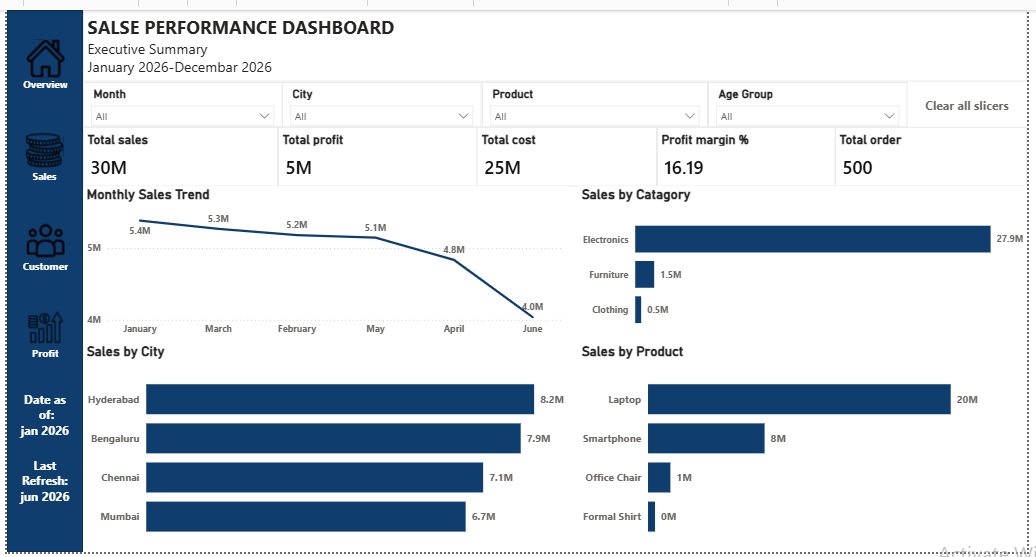

This screenshot's page, from the dashboard's own definition file:
{"tool":"powerbi","page":{"name":"Executive Summary","canvas":[1355,720],"ordinal":0},"visuals":[{"type":"shape","box":[0,0,101,720],"z":0,"group":"g1"},{"type":"cardVisual","title":"Total sales","fields":{"Data":["Sum(Sheet.Sales)"]},"box":[101,155.1,259,79],"z":0},{"type":"actionButton","box":[0,143.4,99.5,102.4],"z":1000,"group":"g1"},{"type":"cardVisual","title":"Total profit","fields":{"Data":["Sum(Sheet.Profit)"]},"box":[360,155.1,264.9,79],"z":1000},{"type":"cardVisual","title":"Total cost","fields":{"Data":["Sum(Sheet.Cost)"]},"box":[624.9,155.1,238.5,79],"z":2000},{"type":"actionButton","box":[1.5,379,99.5,103.9],"z":2000,"group":"g1"},{"type":"cardVisual","title":"Profit margin %","fields":{"Data":["SalesData.Profit Margin%"]},"box":[863.4,155.1,237.1,79],"z":3000},{"type":"actionButton","box":[1.5,267.8,99.5,93.7],"z":3000,"group":"g1"},{"type":"actionButton","box":[1.5,19,99.5,108.3],"z":4000,"group":"g1"},{"type":"cardVisual","title":"Total order","fields":{"Data":["SalesData.Total Order"]},"box":[1100.5,155.1,254.6,79],"z":4000},{"type":"textbox","box":[101,0,1254.1,95.1],"z":5000},{"type":"textbox","box":[1.5,500.5,98,87.8],"z":5000,"group":"g1"},{"type":"slicer","title":"Month 2025","fields":{"Values":["SalesData.Month"]},"box":[101,95.1,264.9,60],"z":6000},{"type":"textbox","box":[1.5,588.3,98,87.8],"z":6000,"group":"g1"},{"type":"slicer","title":"City","fields":{"Values":["SalesData.City"]},"box":[365.9,95.1,264.9,60],"z":7000},{"type":"slicer","title":"Product","fields":{"Values":["SalesData.Product"]},"box":[630.7,95.1,300,60],"z":8000},{"type":"slicer","title":"Age Group","fields":{"Values":["SalesData.Age Group"]},"box":[930.7,95.1,264.9,60],"z":9000},{"type":"lineChart","title":"Monthly Sales Trend","fields":{"Category":["SalesData.Month"],"Y":["Sum(SalesData.Sales)"]},"box":[101,234.1,643.9,207.8],"z":10000},{"type":"clusteredBarChart","title":"Sales by Catagory","fields":{"Category":["SalesData.Category"],"Y":["Sum(SalesData.Sales)"]},"box":[758,234.1,597.1,207.8],"z":11000},{"type":"clusteredBarChart","title":"Sales by City","fields":{"Category":["SalesData.City"],"Y":["Sum(SalesData.Sales)"]},"box":[101,442,657.1,278],"z":12000},{"type":"clusteredBarChart","title":"Sales by Product","fields":{"Category":["SalesData.Product"],"Y":["Sum(SalesData.Sales)"]},"box":[758,442,597.1,278],"z":13000},{"type":"actionButton","box":[1195.6,95.1,159.5,60],"z":14000},{"type":"group","id":"g1","title":"Group 2","box":[0,0,101,720],"z":20002}]}

Visuals, with their boxes on the page's 1355x720 design canvas (x1, y1, x2, y2). These are canvas units, not pixel positions in the 1036x557 screenshot, which may show the page scaled, cropped or inside an application window:
shape: BBox(0, 0, 101, 720)
"Total sales" cardVisual: BBox(101, 155, 360, 234)
actionButton: BBox(0, 143, 100, 246)
"Total profit" cardVisual: BBox(360, 155, 625, 234)
"Total cost" cardVisual: BBox(625, 155, 863, 234)
actionButton: BBox(2, 379, 101, 483)
"Profit margin %" cardVisual: BBox(863, 155, 1100, 234)
actionButton: BBox(2, 268, 101, 362)
actionButton: BBox(2, 19, 101, 127)
"Total order" cardVisual: BBox(1100, 155, 1355, 234)
textbox: BBox(101, 0, 1355, 95)
textbox: BBox(2, 500, 100, 588)
"Month 2025" slicer: BBox(101, 95, 366, 155)
textbox: BBox(2, 588, 100, 676)
"City" slicer: BBox(366, 95, 631, 155)
"Product" slicer: BBox(631, 95, 931, 155)
"Age Group" slicer: BBox(931, 95, 1196, 155)
"Monthly Sales Trend" lineChart: BBox(101, 234, 745, 442)
"Sales by Catagory" clusteredBarChart: BBox(758, 234, 1355, 442)
"Sales by City" clusteredBarChart: BBox(101, 442, 758, 720)
"Sales by Product" clusteredBarChart: BBox(758, 442, 1355, 720)
actionButton: BBox(1196, 95, 1355, 155)
"Group 2" group: BBox(0, 0, 101, 720)
